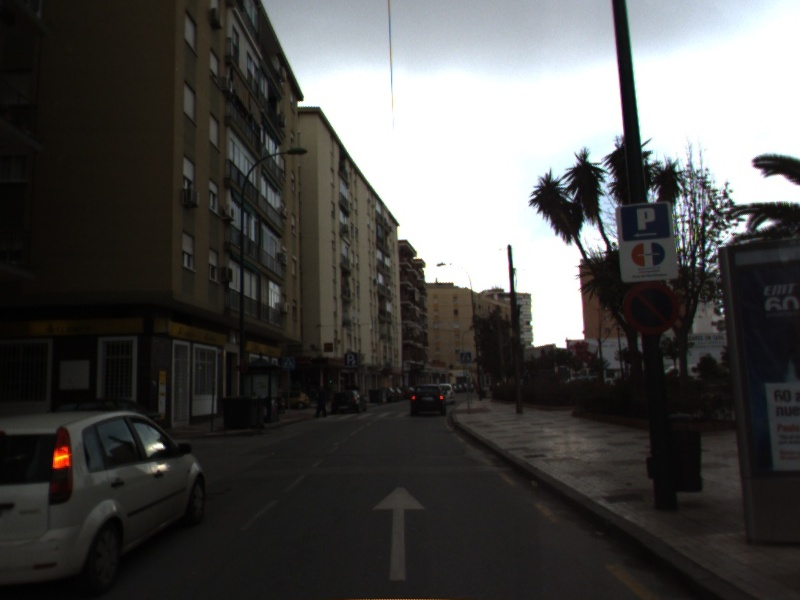STRAIGHT: (369, 485, 428, 583)
